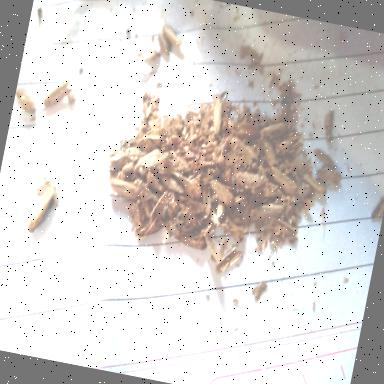pbw: (42, 74, 75, 112), (223, 134, 257, 167), (266, 166, 302, 196), (214, 242, 244, 278), (132, 214, 165, 246), (249, 198, 285, 226), (108, 142, 141, 171), (104, 176, 142, 201), (224, 209, 250, 245), (170, 172, 205, 198), (273, 131, 304, 160), (207, 179, 239, 207), (231, 168, 268, 192), (162, 207, 188, 241), (172, 230, 209, 252), (260, 117, 292, 142), (166, 153, 198, 177), (208, 94, 226, 136), (176, 195, 206, 219), (149, 188, 170, 222), (280, 155, 314, 176), (268, 216, 300, 238), (12, 88, 40, 113), (302, 172, 330, 196), (310, 147, 339, 170), (320, 108, 338, 144), (253, 179, 285, 199), (314, 164, 344, 185), (160, 24, 185, 49), (144, 148, 170, 172), (198, 162, 222, 188), (136, 146, 160, 172), (126, 200, 148, 228), (258, 138, 280, 166), (160, 174, 187, 195), (136, 191, 157, 218), (146, 94, 162, 128), (198, 186, 216, 216), (134, 46, 162, 65), (232, 120, 258, 140), (138, 90, 154, 122), (154, 32, 174, 57), (144, 172, 167, 192), (140, 131, 166, 146), (201, 219, 218, 238)
